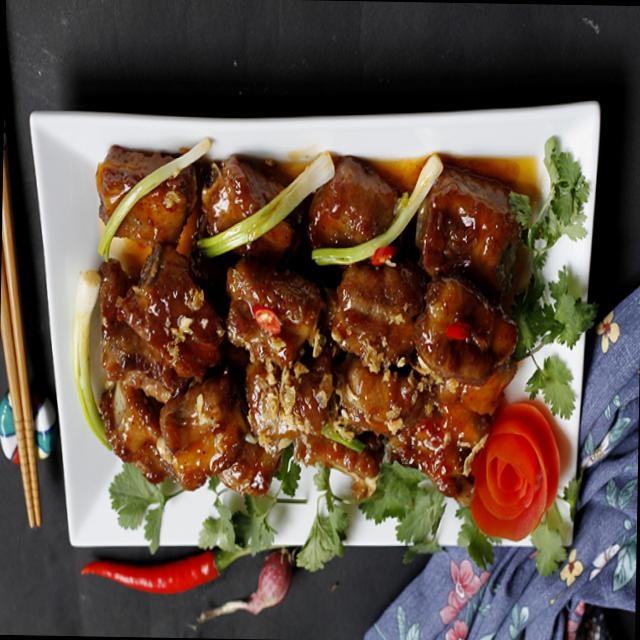suon xao: (98, 158, 521, 503), (96, 147, 170, 223)
